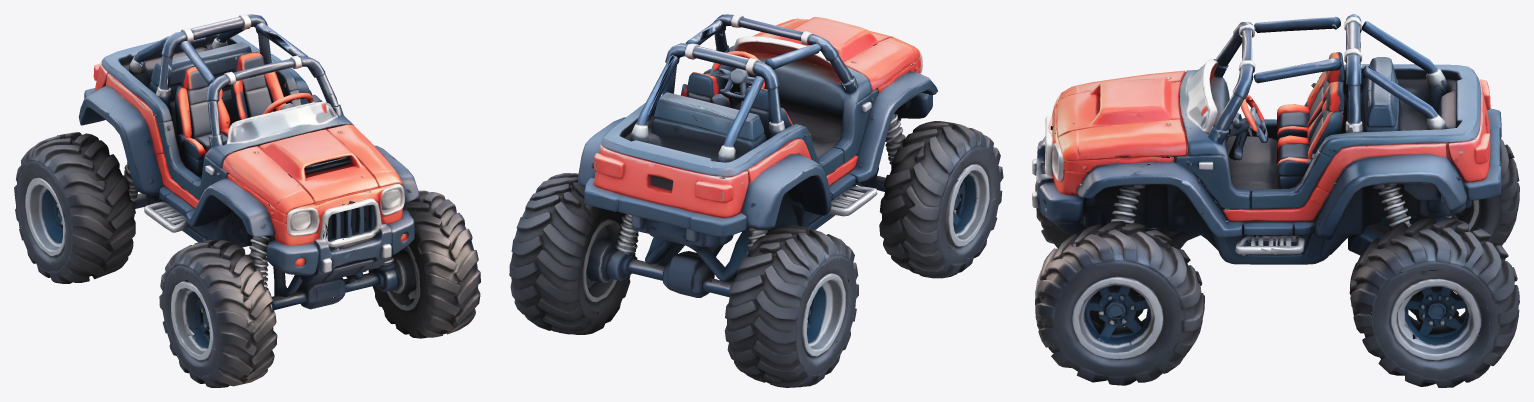
The model's file is titan-desktop.glb.
The picture shows the model from 3 angles, left to right: view 1: azimuth 30°, elevation 25°; view 2: azimuth 150°, elevation 25°; view 3: azimuth 270°, elevation 25°; orthographic projection. The views are drawn at different scales.
Visible parts, largest first — view 1: model; view 2: model; view 3: model.
Boxes of the visible parts, x1,y1,x2,y2 form: model: [14, 14, 480, 387]; model: [509, 14, 1003, 387]; model: [1032, 14, 1519, 387].
Bounding box in the file's own units: 1.36 × 1.23 × 1.89.
Materials: 1 (1 with a texture image).
